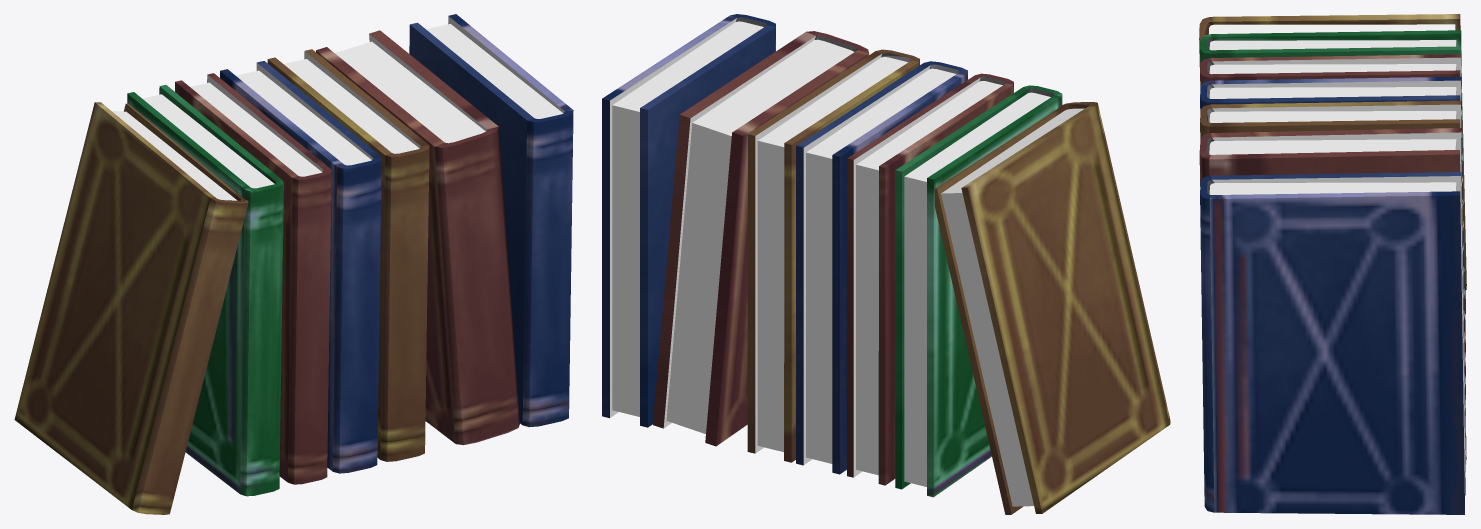
File: Books.fbx
3 renders of one model, left to right at view 1: azimuth 30°, elevation 25°; view 2: azimuth 150°, elevation 25°; view 3: azimuth 270°, elevation 25°, orthographic. The views are drawn at different scales.
Parts seen in each view (by area): view 1: Books2; view 2: Books2; view 3: Books2.
Boxes of the visible parts, x1=… form: Books2: x1=14, y1=14, x2=573, y2=514; Books2: x1=602, y1=14, x2=1170, y2=514; Books2: x1=1199, y1=14, x2=1466, y2=514.
Size of the model in its own units: 37.14 by 25.37 by 18.91.
Materials: 1 (1 with a texture image).
